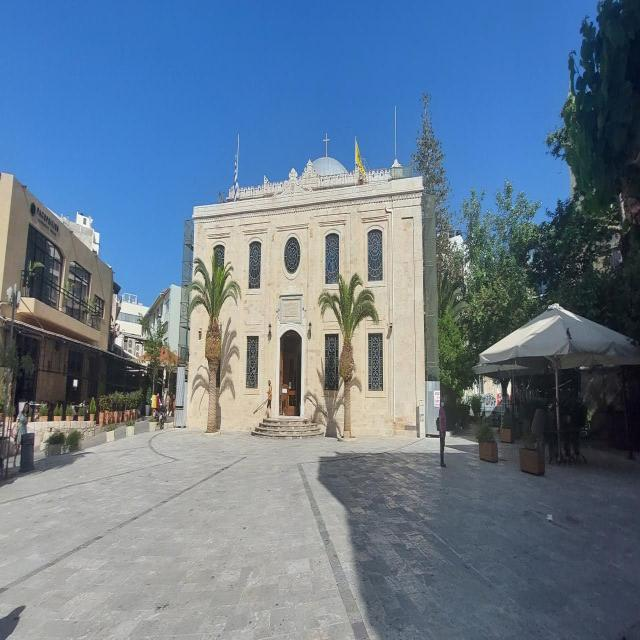Agios Titos: (189, 140, 427, 434)
